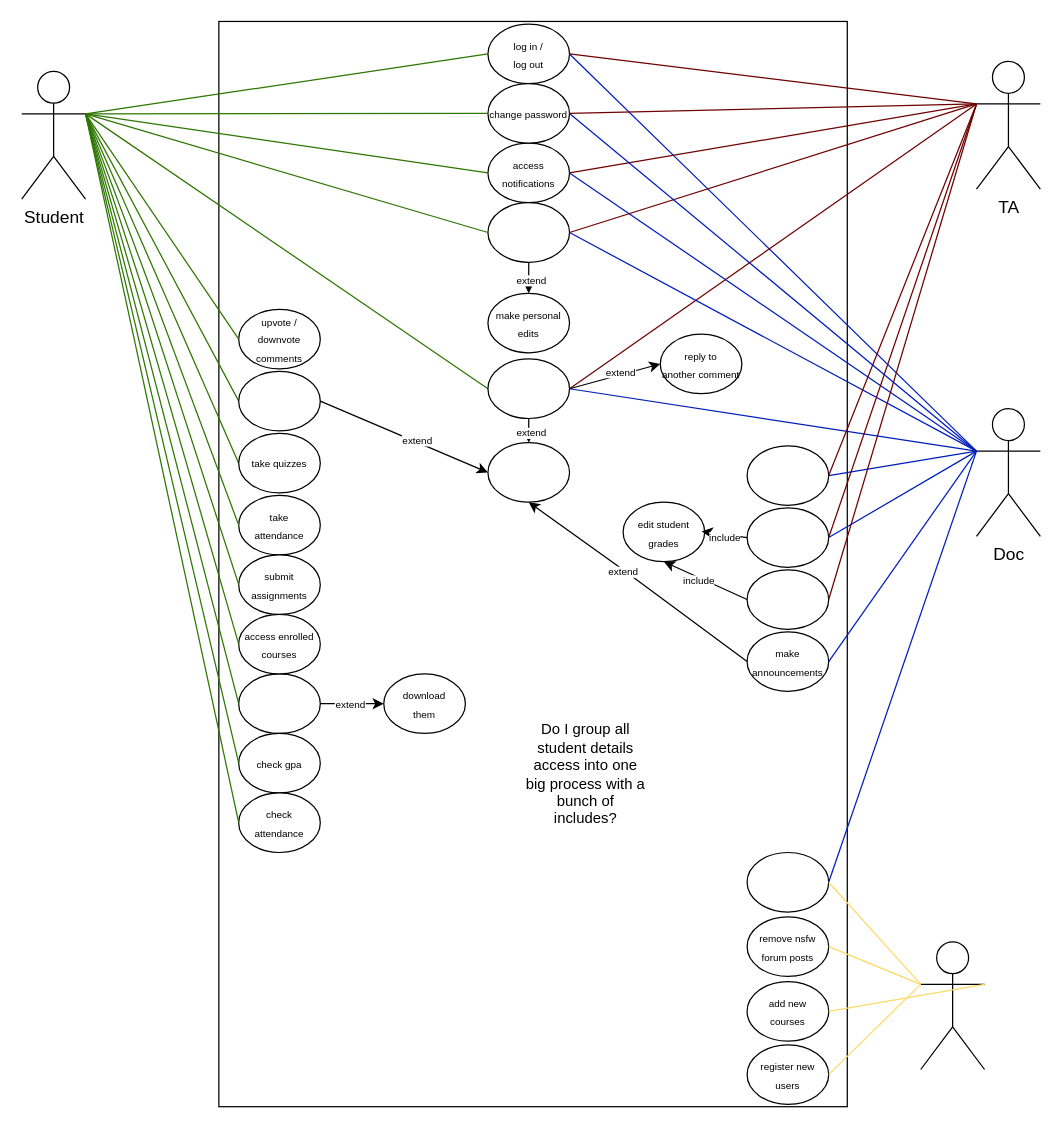
This 1063x1130 diagram has some shape labels left out. The centre of each missing label's shape, as x and y in pixels:
access calendar: point (528, 232)
access course material: point (278, 703)
Admin: point (952, 1005)
attach a file: point (528, 471)
change course material: point (787, 881)
comment: point (528, 388)
grade assignments: point (787, 537)
grade quizzes: point (787, 599)
make forum posts: point (278, 400)
verify comments as answers: point (787, 475)
